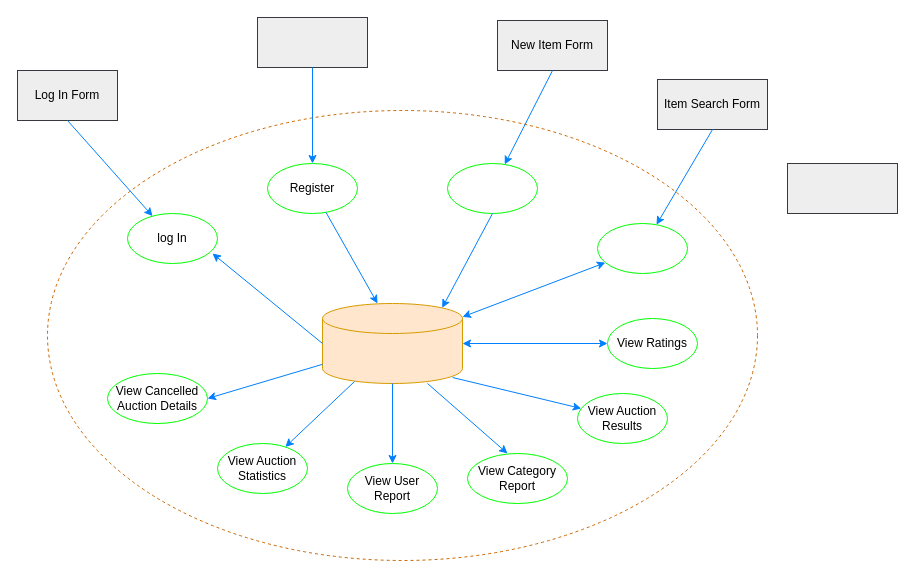
Image size: 915x578. Some labels were removed from this diagram. The box of each missing label's shape, as (x1, y1, x2, y2) in pixels:
Database: (322, 302, 462, 384)
Item For Sale Form: (786, 162, 898, 214)
Registration Form: (256, 16, 368, 68)
Search Items: (596, 222, 688, 274)
Sell Items: (446, 162, 538, 214)
